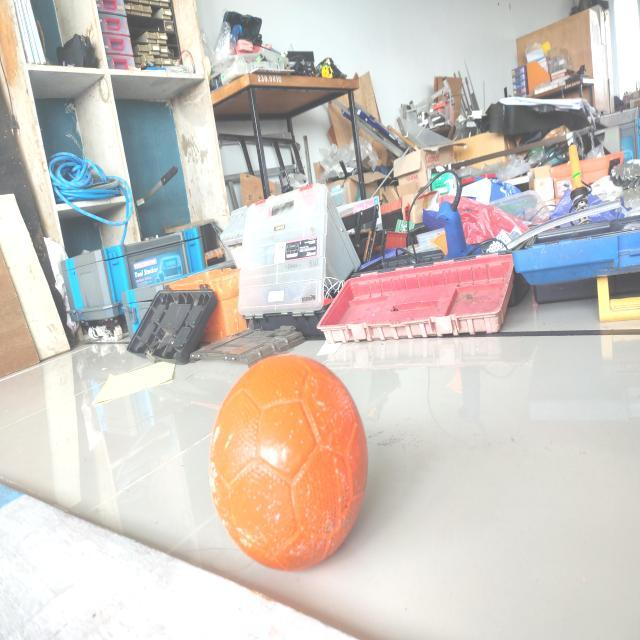bola: (207, 352, 374, 574)
